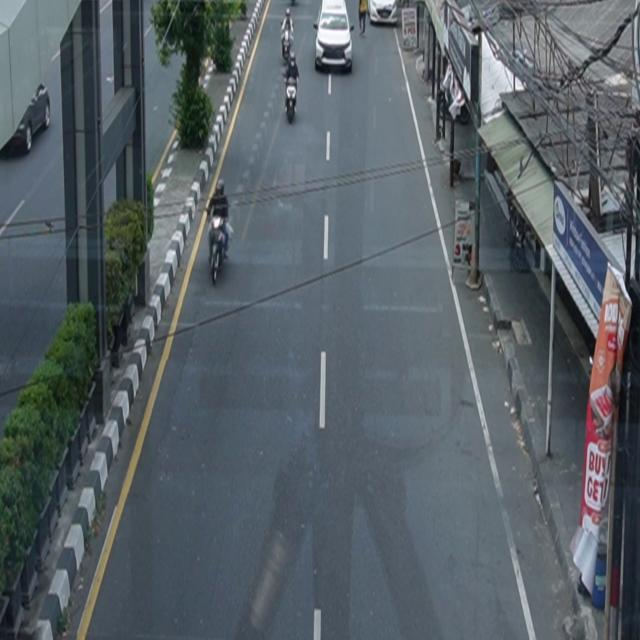car: (314, 1, 355, 74), (367, 1, 398, 26)
